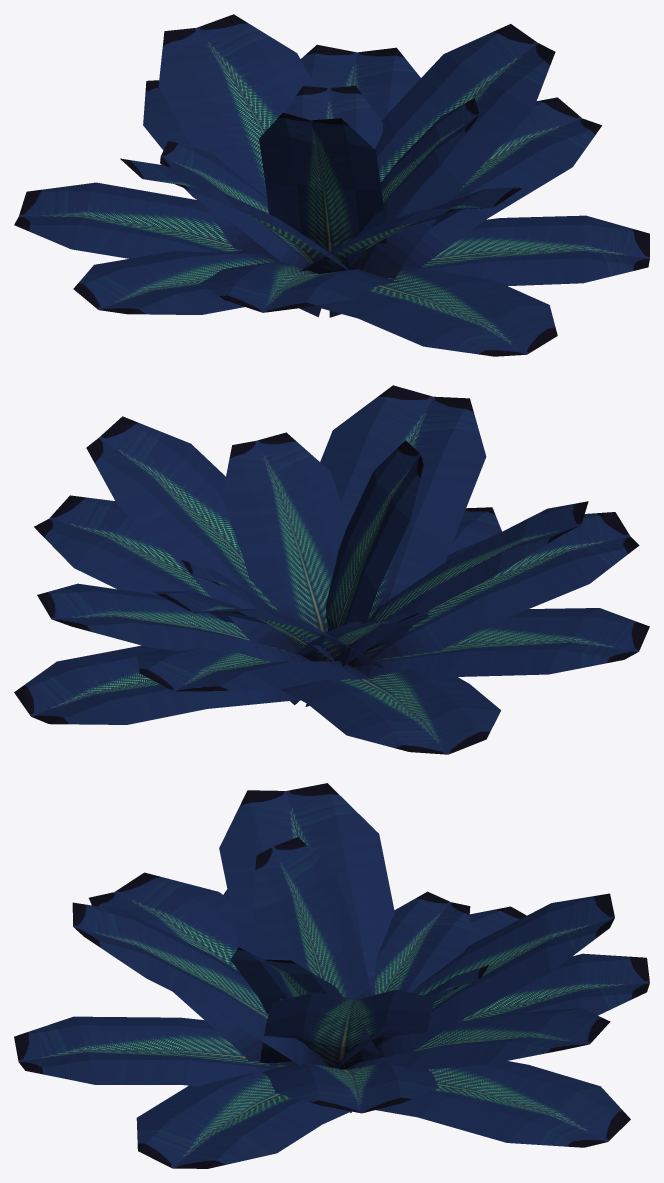
File: VEG0410002.fbx
3 views of the same model, one above another, from view 1: azimuth 30°, elevation 25°; view 2: azimuth 150°, elevation 25°; view 3: azimuth 270°, elevation 25° (orthographic). The views are drawn at different scales.
Visible parts, largest first — view 1: smVEG0410002; view 2: smVEG0410002; view 3: smVEG0410002.
Part boxes in pixels (x1,y1,x2,y2): smVEG0410002: (14,14,649,356); smVEG0410002: (14,385,649,754); smVEG0410002: (14,783,649,1168).
Size of the model in its own units: 240 by 87.64 by 243.
1 material, 1 textured.
